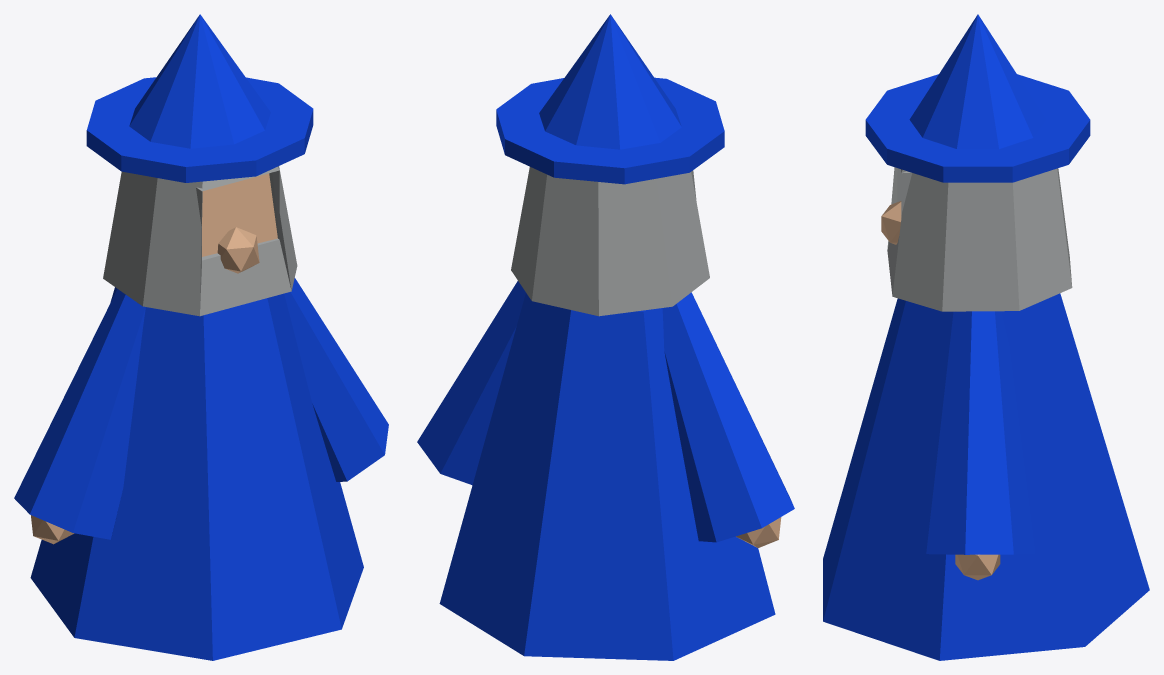
File: Magus_Wizard.fbx
3 renders of one model, left to right at view 1: azimuth 30°, elevation 25°; view 2: azimuth 150°, elevation 25°; view 3: azimuth 270°, elevation 25°, orthographic.
Parts seen in each view (by area): view 1: Cylinder, Cylinder.001, Cylinder.004, Cylinder.002, Cone, Cylinder.003, Cube, Icosphere, Icosphere.002; view 2: Cylinder, Cylinder.001, Cylinder.004, Cylinder.002, Cone, Cylinder.003, Icosphere.002; view 3: Cylinder, Cylinder.001, Cylinder.003, Cylinder.002, Cone, Icosphere.001, Icosphere.
Part boxes in pixels (left/top/right/bottom): Cylinder: left=30, top=287, right=363, bottom=660; Cylinder.001: left=103, top=166, right=297, bottom=316; Cylinder.004: left=14, top=289, right=145, bottom=539; Cylinder.002: left=86, top=77, right=313, bottom=182; Cone: left=129, top=14, right=270, bottom=148; Cylinder.003: left=284, top=278, right=388, bottom=481; Cube: left=202, top=173, right=277, bottom=256; Icosphere: left=217, top=227, right=259, bottom=273; Icosphere.002: left=31, top=515, right=74, bottom=544; Cylinder: left=439, top=293, right=775, bottom=660; Cylinder.001: left=511, top=167, right=709, bottom=316; Cylinder.004: left=662, top=292, right=794, bottom=542; Cylinder.002: left=496, top=77, right=724, bottom=184; Cone: left=539, top=14, right=681, bottom=149; Cylinder.003: left=417, top=281, right=525, bottom=485; Icosphere.002: left=736, top=517, right=781, bottom=547; Cylinder: left=823, top=293, right=1149, bottom=660; Cylinder.001: left=887, top=167, right=1072, bottom=311; Cylinder.003: left=926, top=311, right=1035, bottom=554; Cylinder.002: left=865, top=74, right=1090, bottom=182; Cone: left=909, top=14, right=1046, bottom=149; Icosphere.001: left=955, top=554, right=1000, bottom=580; Icosphere: left=881, top=201, right=901, bottom=244.
Bounding box in the file's own units: 242 × 370 × 190.
